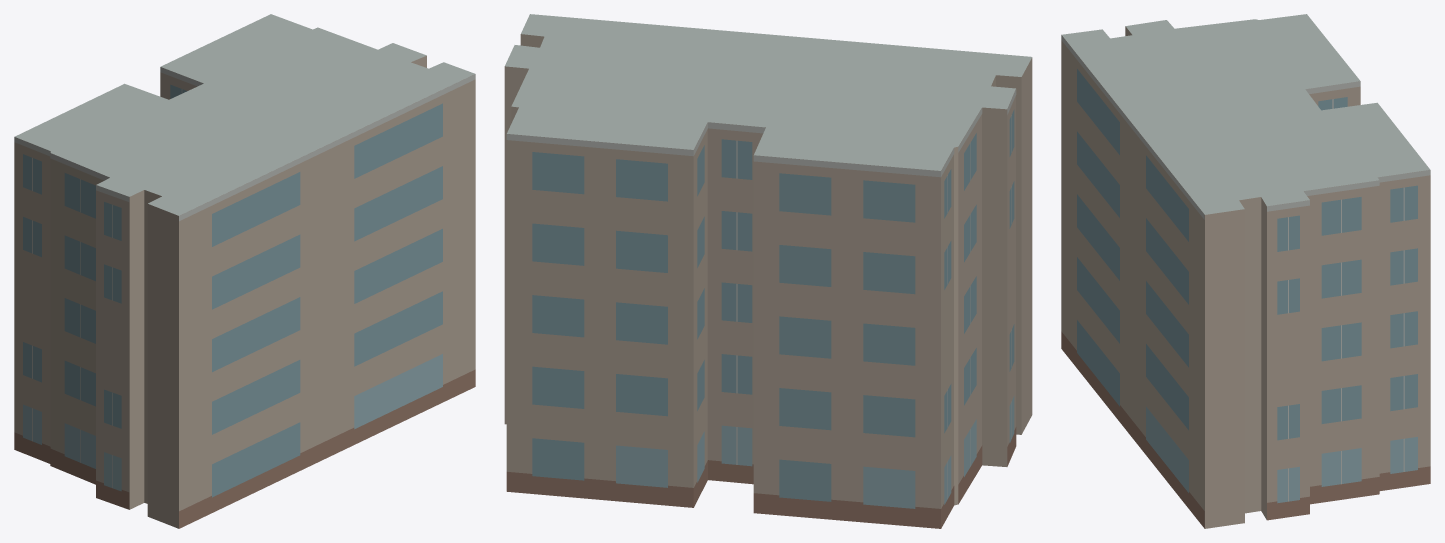
Rendered from survey-upis-32703334.glb.
3 views of the same model, side by side, from view 1: azimuth 30°, elevation 25°; view 2: azimuth 150°, elevation 25°; view 3: azimuth 270°, elevation 25° (orthographic). The views are drawn at different scales.
Visible parts, largest first — view 1: survey-upis-32703334.tmp; view 2: survey-upis-32703334.tmp; view 3: survey-upis-32703334.tmp.
Part boxes in pixels (x1,y1,x2,y2): survey-upis-32703334.tmp: (14,14,475,528); survey-upis-32703334.tmp: (504,14,1032,528); survey-upis-32703334.tmp: (1061,14,1430,528).
Size of the model in its own units: 19.21 by 14 by 14.92.
